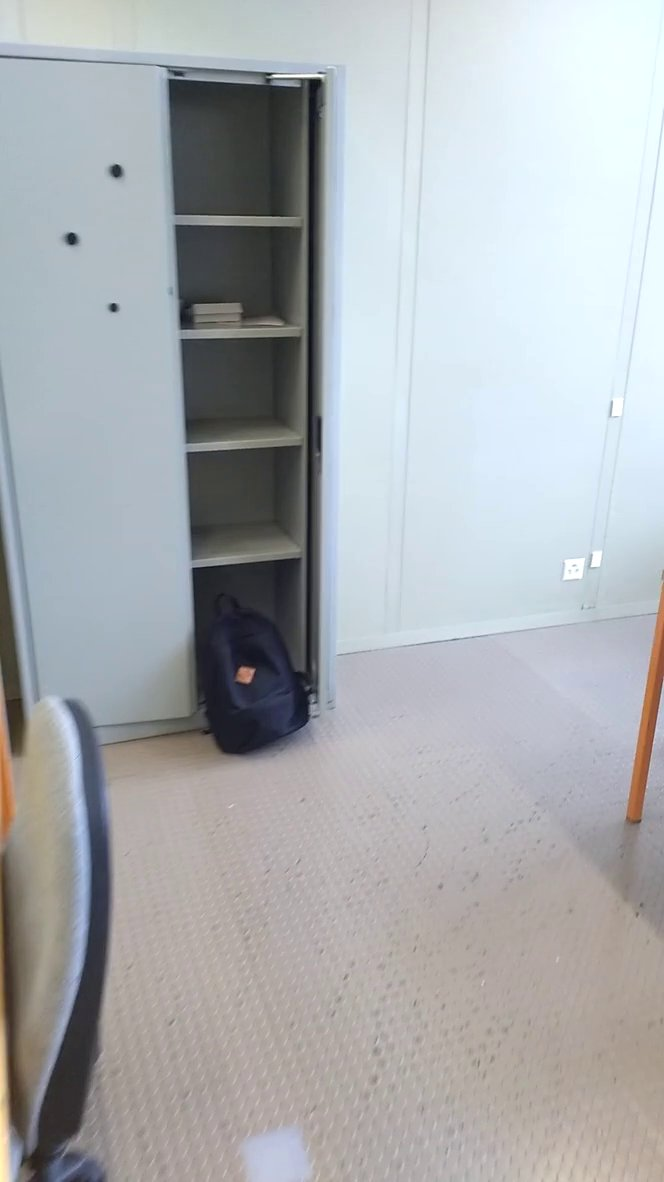bag: (189, 585, 315, 762)
chair: (3, 669, 136, 1182)
